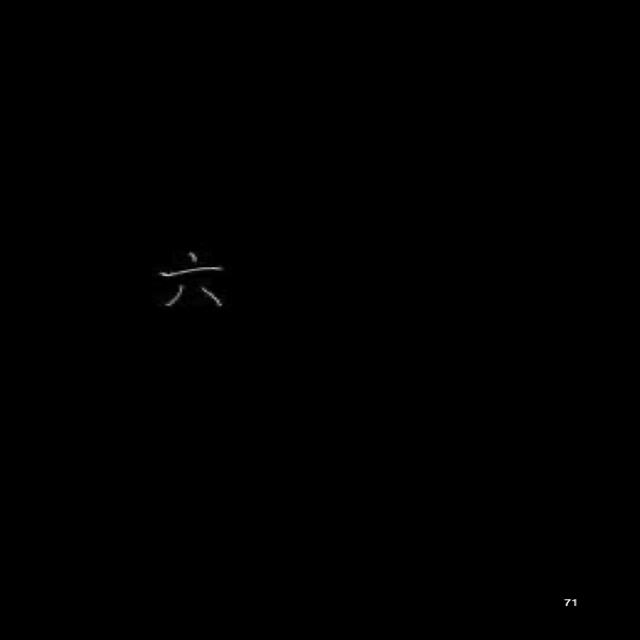6 -six-: (134, 242, 259, 334)
